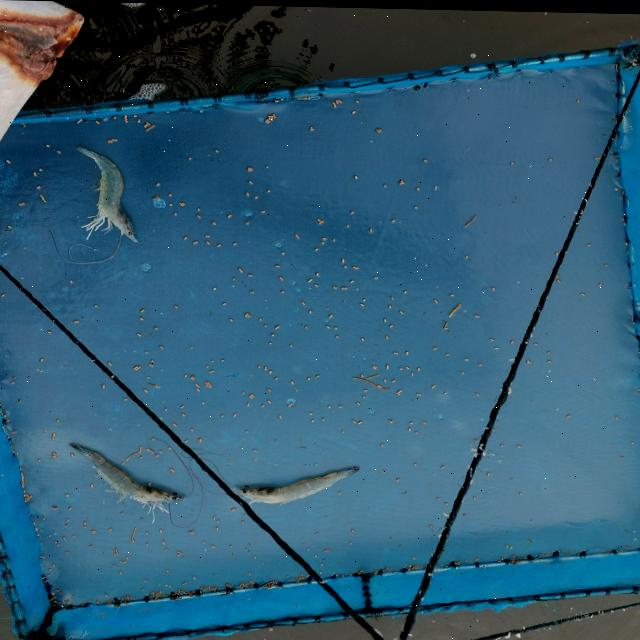Shrimp feeds: (106, 137, 119, 145), (397, 176, 408, 184), (243, 189, 253, 197), (316, 214, 324, 224), (304, 276, 316, 282), (258, 208, 269, 214), (412, 202, 420, 210), (175, 549, 184, 556), (322, 546, 331, 553), (243, 218, 251, 225), (168, 466, 176, 473), (431, 182, 442, 187), (226, 212, 235, 218), (230, 240, 239, 246), (351, 173, 360, 179), (357, 417, 364, 424), (236, 266, 244, 272), (178, 201, 186, 207), (142, 121, 150, 127), (307, 124, 315, 130), (294, 231, 300, 239), (348, 208, 356, 214), (350, 107, 358, 113), (203, 232, 212, 237), (205, 381, 212, 387), (172, 211, 179, 217), (183, 234, 190, 240), (247, 165, 253, 172), (248, 179, 255, 185), (390, 216, 397, 222), (355, 399, 362, 405), (278, 275, 286, 280), (246, 272, 254, 277), (212, 147, 220, 152), (166, 192, 174, 197), (195, 213, 203, 218), (38, 358, 46, 363), (8, 380, 16, 385), (158, 344, 166, 349), (147, 362, 155, 367), (188, 529, 196, 534), (18, 202, 27, 206), (192, 238, 198, 244), (203, 240, 212, 244), (173, 304, 179, 310), (286, 402, 295, 406), (351, 416, 357, 422), (135, 366, 142, 371), (5, 159, 12, 164), (31, 171, 38, 176), (154, 182, 161, 187), (375, 127, 382, 132), (68, 279, 75, 284), (100, 383, 107, 388), (120, 559, 127, 564), (117, 570, 124, 575), (210, 544, 217, 549), (473, 312, 481, 316), (152, 325, 160, 329), (130, 539, 138, 543), (274, 324, 280, 329), (349, 277, 355, 282), (308, 308, 314, 313), (35, 185, 41, 190), (168, 202, 174, 207), (211, 219, 217, 224), (216, 242, 222, 247), (382, 182, 388, 187), (368, 226, 374, 231), (136, 332, 142, 337), (67, 506, 73, 511), (69, 452, 75, 457), (211, 514, 217, 519), (214, 525, 220, 530), (230, 506, 236, 511), (326, 402, 332, 407), (363, 387, 369, 392), (388, 417, 394, 422), (327, 313, 334, 317), (341, 285, 348, 289), (249, 289, 256, 293), (254, 193, 258, 200), (139, 308, 146, 312), (111, 563, 118, 567), (337, 403, 344, 407), (320, 416, 327, 420), (309, 417, 316, 421), (72, 320, 81, 323), (389, 322, 394, 327), (266, 187, 271, 192), (345, 222, 350, 227), (576, 96, 581, 101), (405, 349, 410, 354), (407, 425, 412, 430), (133, 365, 139, 369), (314, 282, 320, 286), (274, 263, 280, 267), (341, 256, 345, 262), (353, 264, 359, 268), (360, 336, 366, 340), (95, 120, 101, 124), (322, 235, 328, 239), (449, 291, 455, 295), (594, 154, 602, 157), (580, 290, 586, 294), (526, 357, 532, 361), (1, 292, 5, 298), (89, 483, 95, 487), (52, 506, 58, 510), (66, 518, 72, 522), (88, 544, 94, 548), (119, 511, 125, 515), (159, 528, 163, 534), (208, 369, 214, 373), (308, 410, 314, 414), (408, 419, 414, 423), (270, 332, 277, 335), (415, 186, 422, 189), (46, 331, 53, 334), (288, 380, 295, 383), (301, 300, 306, 304), (250, 394, 255, 398), (108, 362, 113, 366), (331, 100, 336, 104), (316, 271, 320, 276), (229, 317, 234, 321), (335, 333, 340, 337), (403, 288, 408, 292), (304, 324, 309, 328), (510, 159, 515, 163), (554, 248, 558, 253), (383, 377, 388, 381), (394, 349, 399, 353), (495, 344, 500, 348), (139, 316, 144, 320), (62, 536, 67, 540), (161, 540, 166, 544), (264, 364, 268, 369), (332, 285, 338, 288), (258, 317, 264, 320), (586, 241, 592, 244), (489, 336, 495, 339), (432, 345, 438, 348), (475, 391, 481, 394), (6, 225, 12, 228), (64, 551, 70, 554), (108, 527, 114, 530), (201, 540, 207, 543), (422, 419, 428, 422), (196, 387, 200, 391), (92, 530, 96, 534), (374, 274, 378, 278), (363, 296, 367, 300), (46, 144, 50, 148), (315, 246, 319, 250), (197, 207, 201, 211), (355, 98, 359, 102), (549, 155, 553, 159), (555, 271, 559, 275), (94, 304, 98, 308), (145, 350, 149, 354), (274, 375, 278, 379), (316, 373, 320, 377), (261, 402, 265, 406), (279, 413, 283, 417), (362, 393, 366, 397), (405, 365, 410, 368), (398, 388, 403, 391), (267, 399, 272, 402), (336, 98, 339, 103), (280, 289, 285, 292), (222, 301, 227, 304), (423, 157, 428, 160), (491, 285, 496, 288), (556, 277, 561, 280), (464, 356, 469, 359), (443, 390, 448, 393), (257, 364, 262, 367), (306, 376, 311, 379), (246, 312, 250, 315), (244, 313, 248, 316), (326, 324, 330, 327), (385, 334, 389, 337), (372, 364, 376, 367), (374, 365, 378, 368), (392, 378, 396, 381), (249, 393, 253, 396), (268, 387, 271, 391), (233, 413, 237, 416), (400, 309, 404, 312), (388, 304, 392, 307), (360, 302, 364, 305), (434, 298, 438, 301), (22, 475, 25, 479), (26, 494, 29, 498), (91, 530, 95, 533), (265, 118, 269, 121), (266, 119, 270, 122), (273, 113, 276, 117), (338, 98, 342, 101), (212, 286, 216, 289), (264, 323, 268, 326), (334, 325, 338, 328), (332, 237, 336, 240), (464, 253, 468, 256), (599, 280, 602, 284), (510, 338, 514, 341), (431, 384, 437, 386), (150, 359, 156, 361), (66, 493, 70, 496), (268, 369, 272, 372), (387, 363, 389, 368), (399, 366, 404, 368), (416, 392, 421, 394), (461, 370, 466, 372), (478, 362, 483, 364), (411, 371, 414, 374), (361, 373, 364, 376), (247, 402, 250, 405), (391, 295, 394, 298), (268, 116, 271, 119), (270, 116, 273, 119), (345, 264, 348, 267), (38, 458, 41, 461), (247, 314, 251, 316), (22, 478, 24, 482), (268, 341, 272, 343), (321, 241, 325, 243), (384, 317, 386, 320), (418, 366, 420, 369), (334, 103, 336, 106), (232, 277, 235, 279), (268, 115, 273, 116)
